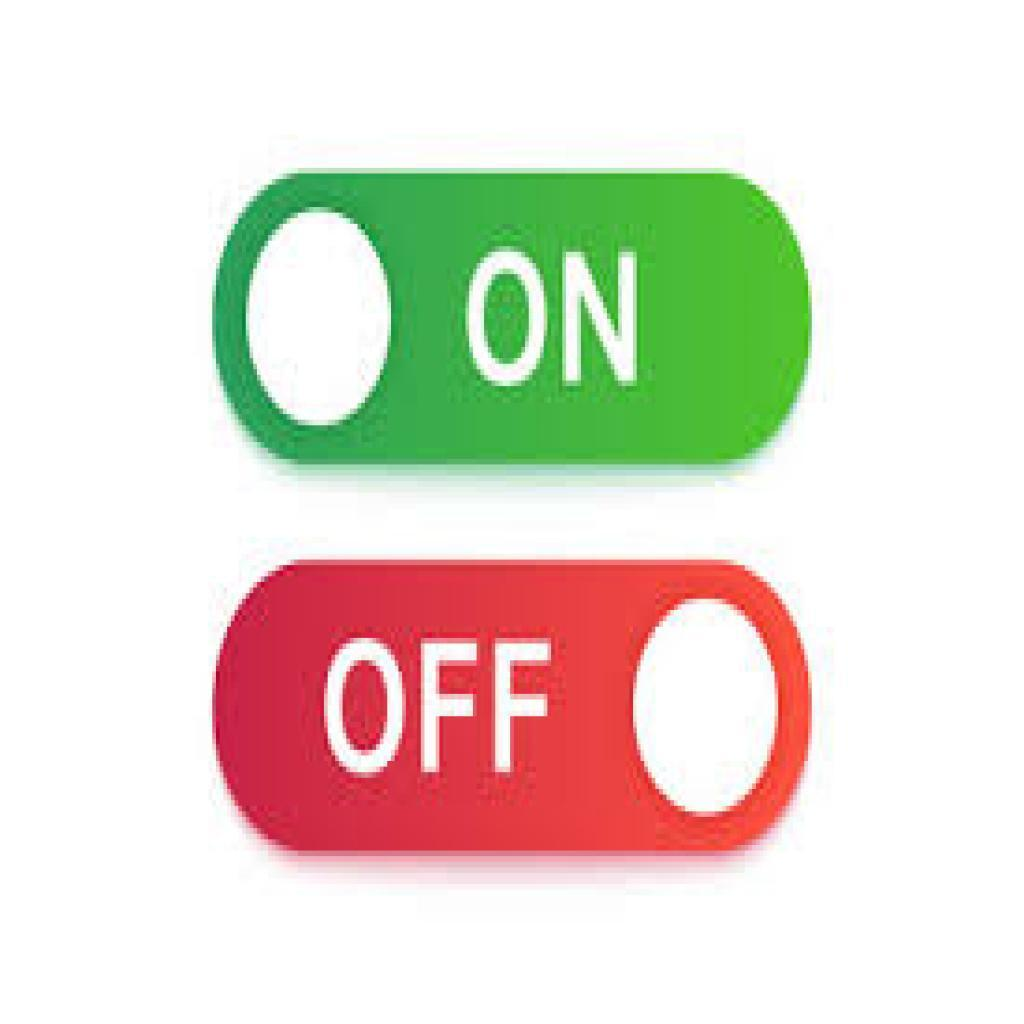switch: (208, 564, 825, 860), (208, 172, 814, 466)
